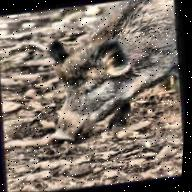boar: (46, 0, 192, 154)
